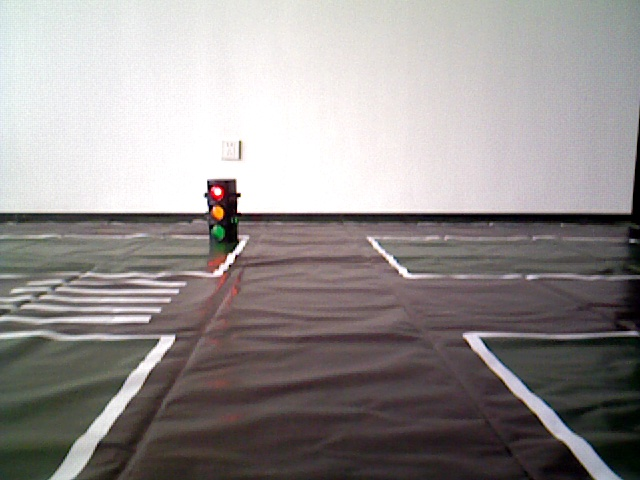red: (208, 180, 234, 245)
